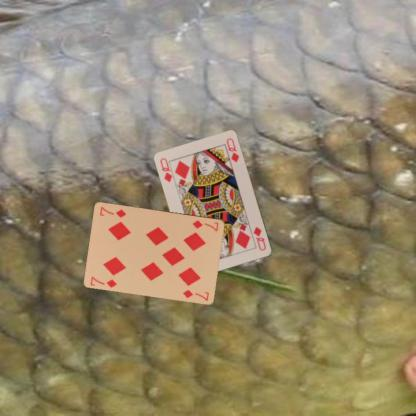7d: (88, 274, 118, 289), (190, 218, 220, 232)
Qd: (158, 155, 177, 184), (250, 224, 268, 252)
